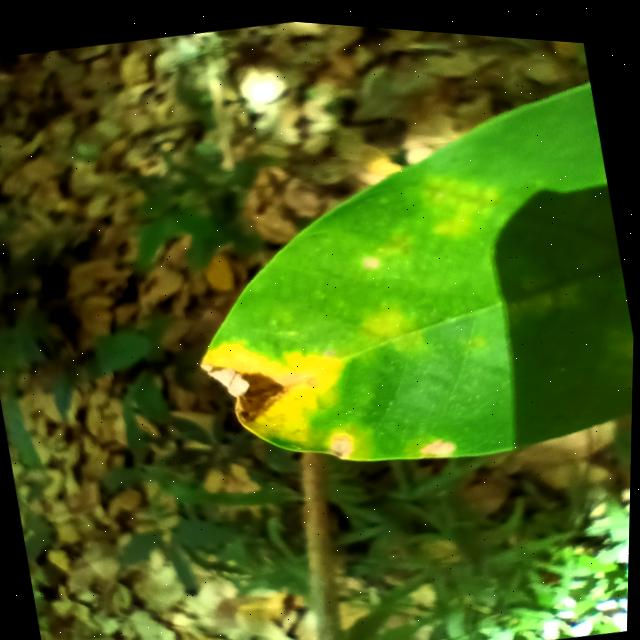Leaf-Blight: (200, 339, 322, 431), (327, 424, 360, 455), (422, 428, 460, 454)
